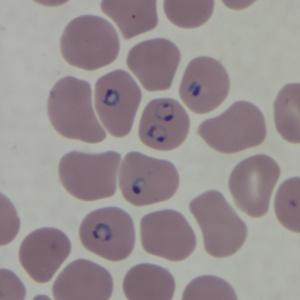Infected: (118, 151, 179, 207), (95, 69, 142, 139), (80, 205, 134, 262), (138, 97, 189, 149)
Uninfected: (189, 190, 250, 258), (48, 76, 108, 143), (197, 98, 268, 153), (59, 149, 123, 201), (19, 226, 73, 284), (60, 16, 119, 69), (139, 208, 198, 261), (229, 154, 280, 215), (181, 56, 232, 112), (127, 38, 180, 91), (52, 257, 115, 300), (125, 264, 176, 300)
